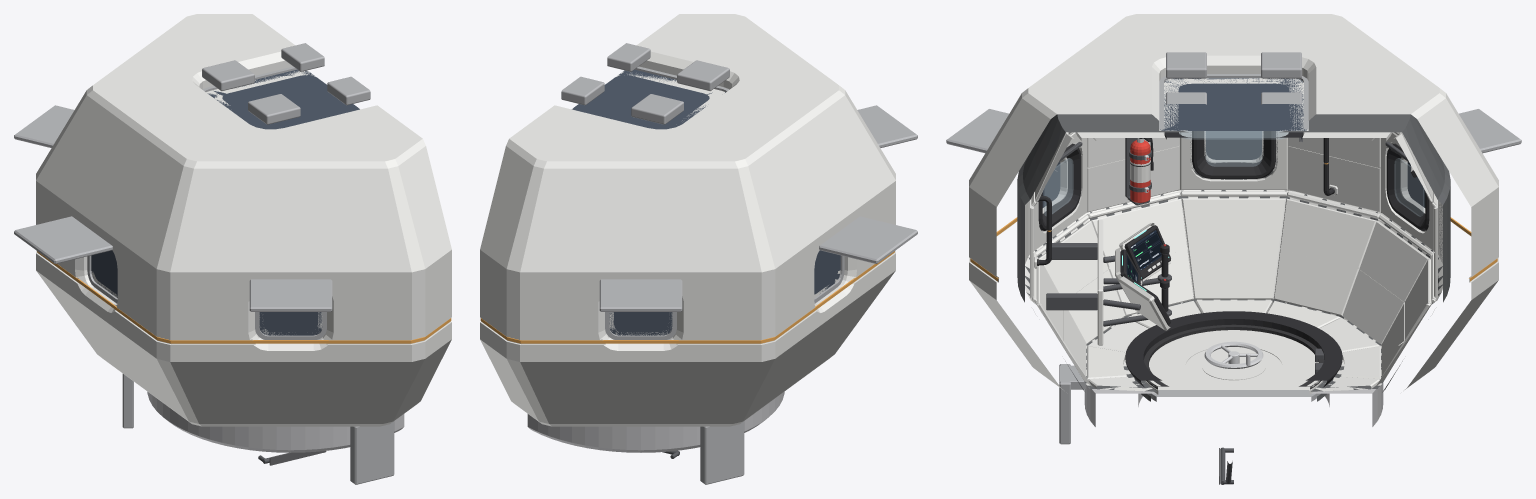
The model's file is ax_station_05_cupola_cutaway.glb.
3 renders of one model, left to right at view 1: azimuth 30°, elevation 25°; view 2: azimuth 150°, elevation 25°; view 3: azimuth 270°, elevation 25°, orthographic. The views are drawn at different scales.
Visible parts, largest first — view 1: ext_pressure_hull, ext_port_bottom, ext_top_shutter_hinges, ext_top_window_glass, ext_port_bottom_petals, ext_cover_5, ext_cover_4, ext_window_glass, ext_orange_stripes, ext_cover_3, ext_window_frames; view 2: ext_pressure_hull, ext_port_bottom, ext_top_shutter_hinges, ext_top_window_glass, ext_cover_3, ext_cover_4, ext_port_bottom_petals, ext_window_glass, ext_orange_stripes, ext_cover_5, ext_window_frames; view 3: ext_pressure_hull, pressure_vessel, panel_b1_f06, panel_b1_f05, hatch_door_1, ext_top_window_glass, panel_b1_f04, panel_b3_f05, panel_b1_f07, tunnel_trim_ring_1, panel_b3_f07, panel_b1_f08 (+37 smaller).
Boxes of the visible parts, x1,y1,x2,y2 form: ext_pressure_hull: (36,14,451,426); ext_port_bottom: (147,391,404,452); ext_top_shutter_hinges: (202,43,370,124); ext_top_window_glass: (207,69,359,129); ext_port_bottom_petals: (122,374,394,484); ext_cover_5: (249,279,332,311); ext_cover_4: (14,216,112,263); ext_window_glass: (91,250,322,335); ext_orange_stripes: (37,251,451,343); ext_cover_3: (14,105,74,147); ext_window_frames: (87,255,326,339); ext_pressure_hull: (480,14,895,426); ext_port_bottom: (527,391,784,452); ext_top_shutter_hinges: (561,43,729,124); ext_top_window_glass: (572,69,725,129); ext_cover_3: (599,279,682,311); ext_cover_4: (819,216,917,263); ext_port_bottom_petals: (700,421,744,484); ext_window_glass: (609,250,840,335); ext_orange_stripes: (480,251,894,343); ext_cover_5: (857,105,917,147); ext_window_frames: (605,255,844,339); ext_pressure_hull: (969,14,1498,391); pressure_vessel: (1017,114,1450,401); panel_b1_f06: (1181,198,1286,299); panel_b1_f05: (1274,198,1376,316); hatch_door_1: (1144,330,1323,394); ext_top_window_glass: (1160,78,1307,130); panel_b1_f04: (1342,220,1430,344); panel_b3_f05: (1288,132,1380,212); panel_b1_f07: (1091,198,1193,316); tunnel_trim_ring_1: (1125,311,1342,388); panel_b3_f07: (1087,132,1179,212); panel_b1_f08: (1037,220,1125,344).
Size of the model in its own units: 2.13 by 2.31 by 3.08.
26 materials, 1 textured.
